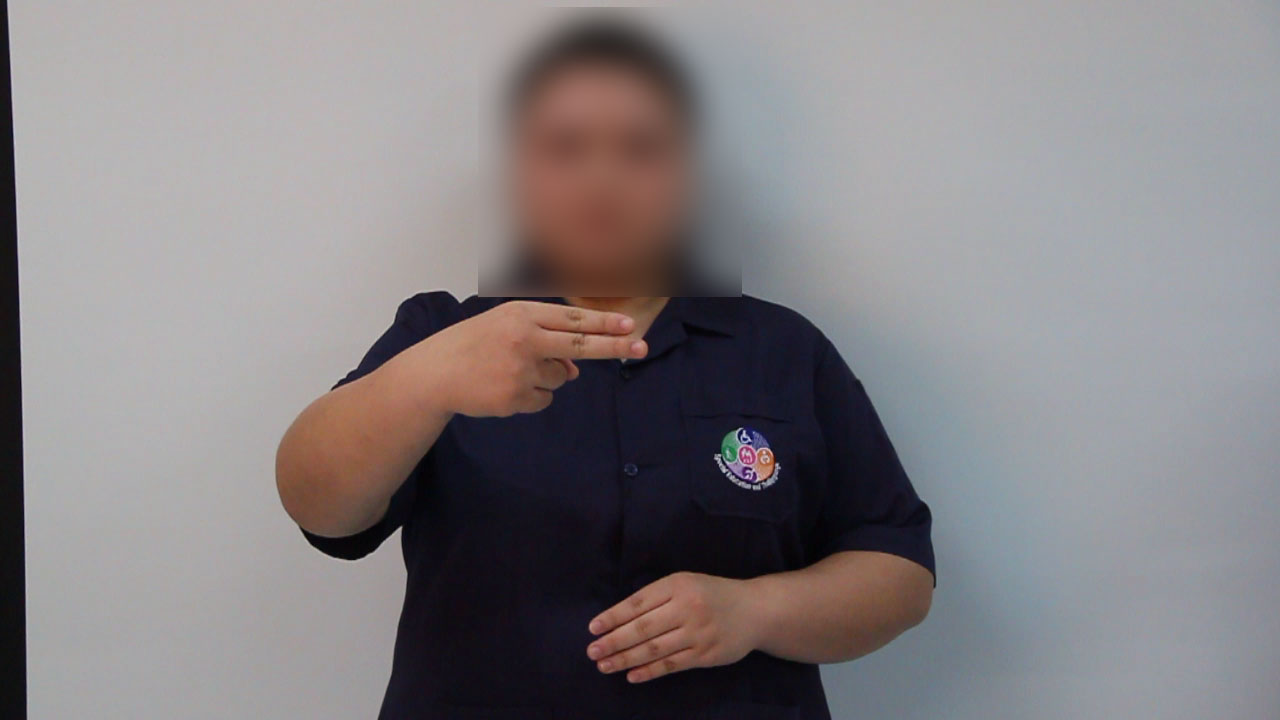hor: (415, 288, 664, 433)
